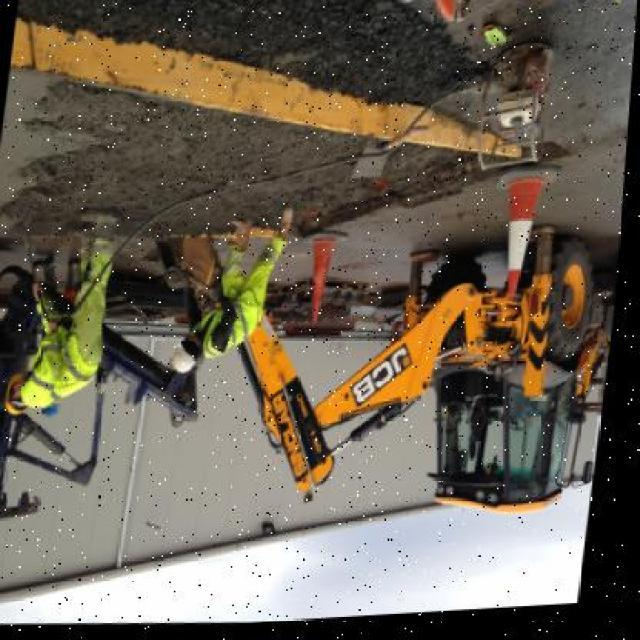helmet: (174, 333, 209, 379)
vest: (22, 342, 101, 410), (206, 286, 264, 360)
